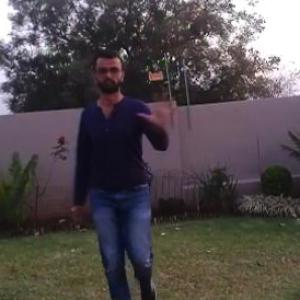follow_hand: (138, 91, 180, 128)
